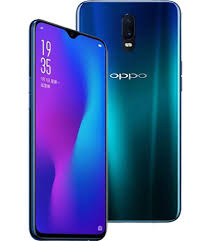oppo: (76, 1, 182, 223), (25, 12, 108, 241)
